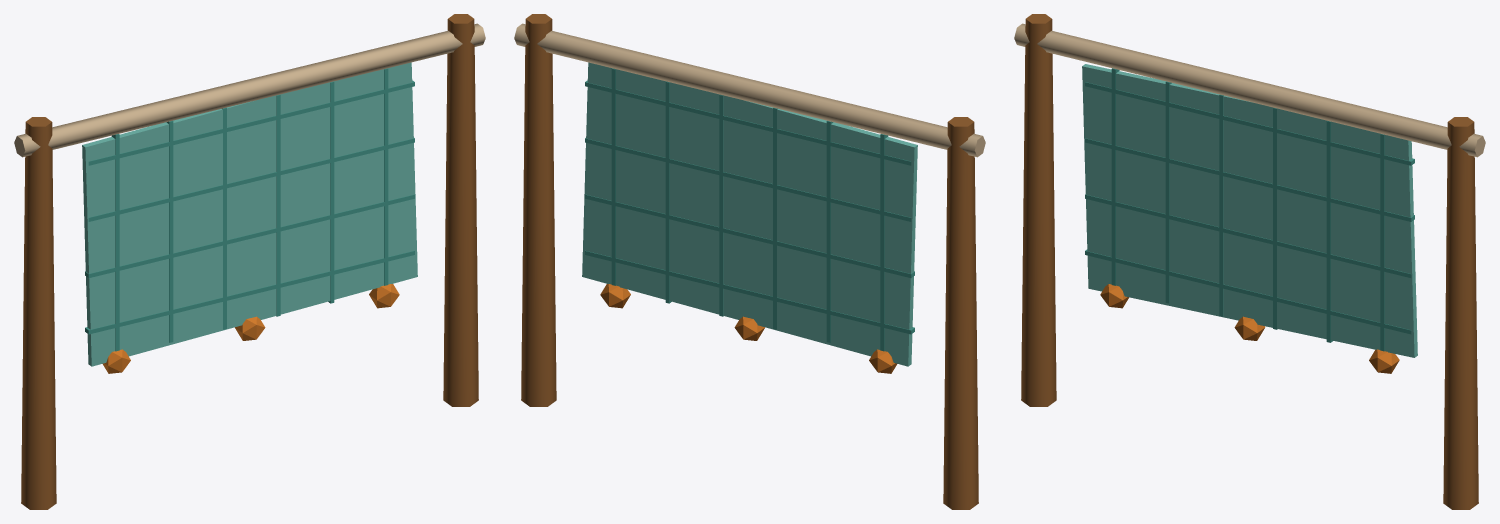
File: netRack.glb
3 views of the same model, side by side, from view 1: azimuth 30°, elevation 25°; view 2: azimuth 150°, elevation 25°; view 3: azimuth 330°, elevation 25° (orthographic).
Visible parts, largest first — view 1: netRack_mesh; view 2: netRack_mesh; view 3: netRack_mesh.
Part boxes in pixels (<box>): netRack_mesh: <box>14,14,485,509</box>; netRack_mesh: <box>514,14,985,509</box>; netRack_mesh: <box>1014,14,1485,509</box>.
Bounding box in the file's own units: 2.4 × 1.9 × 0.16.
